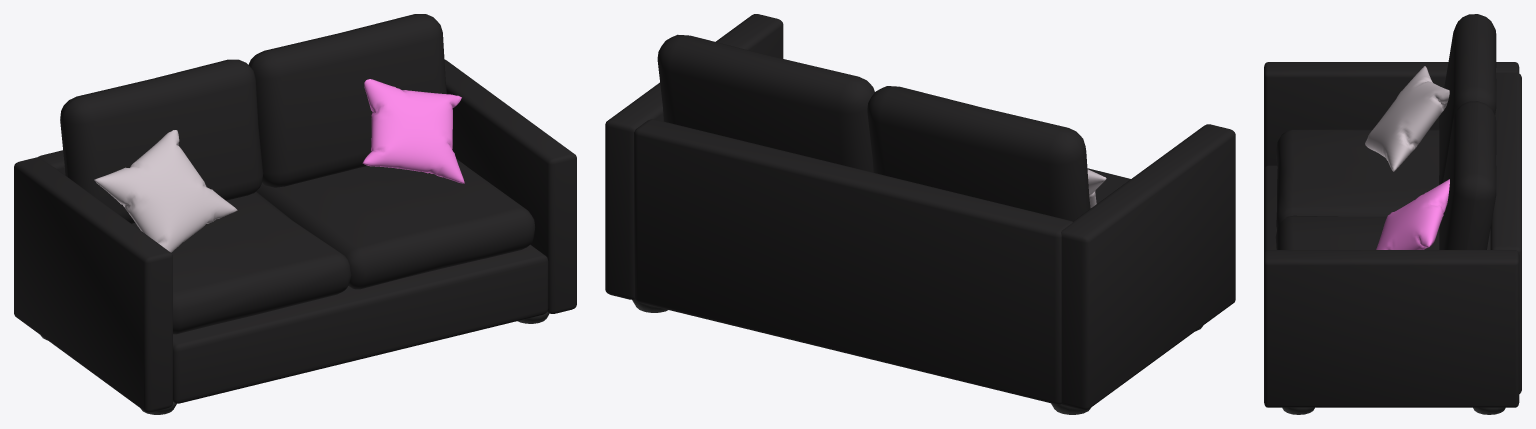
The model's file is black white and pink couch.fbx.
3 renders of one model, left to right at view 1: azimuth 30°, elevation 25°; view 2: azimuth 150°, elevation 25°; view 3: azimuth 270°, elevation 25°, orthographic. The views are drawn at different scales.
Visible parts, largest first — view 1: Cube; view 2: Cube; view 3: Cube.
Part boxes in pixels (x1,y1,x2,y2): Cube: [14, 14, 576, 414]; Cube: [605, 14, 1235, 414]; Cube: [1264, 14, 1521, 414].
Size of the model in its own units: 228 by 120 by 123.
